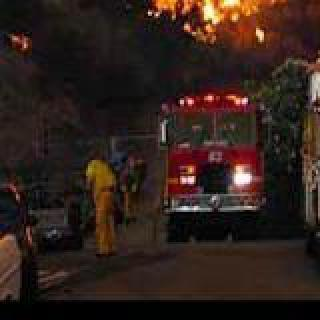fire: (29, 0, 320, 18)
